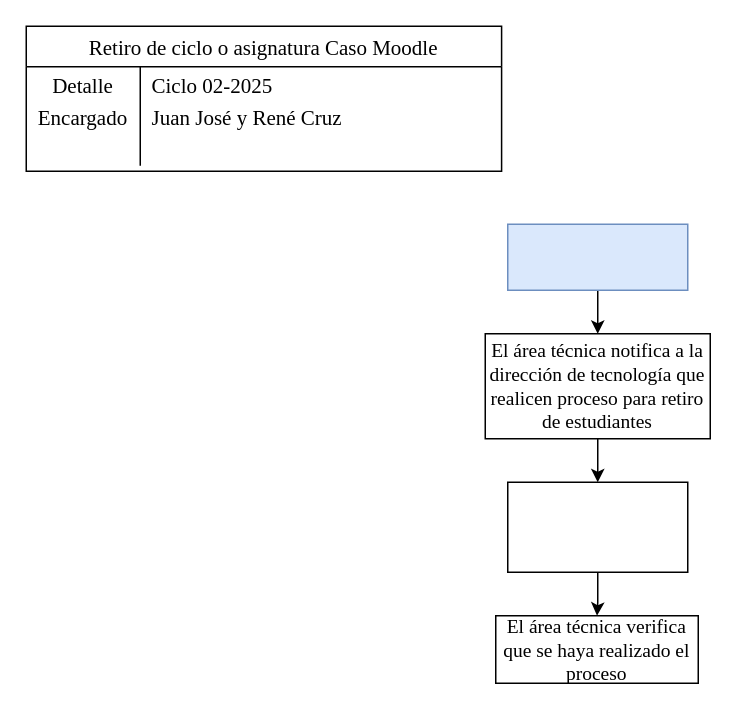
The diagram is 737 pixels wide and 711 high, and some of its shapes have lost their labels. Here are the shapes that lost their labels. From the top down, the centre of each, then its label:
At (597,256): "Caso Moodle".
At (597,526): "Esperar confirmación del proceso por parte de la dirección de tecnología".
